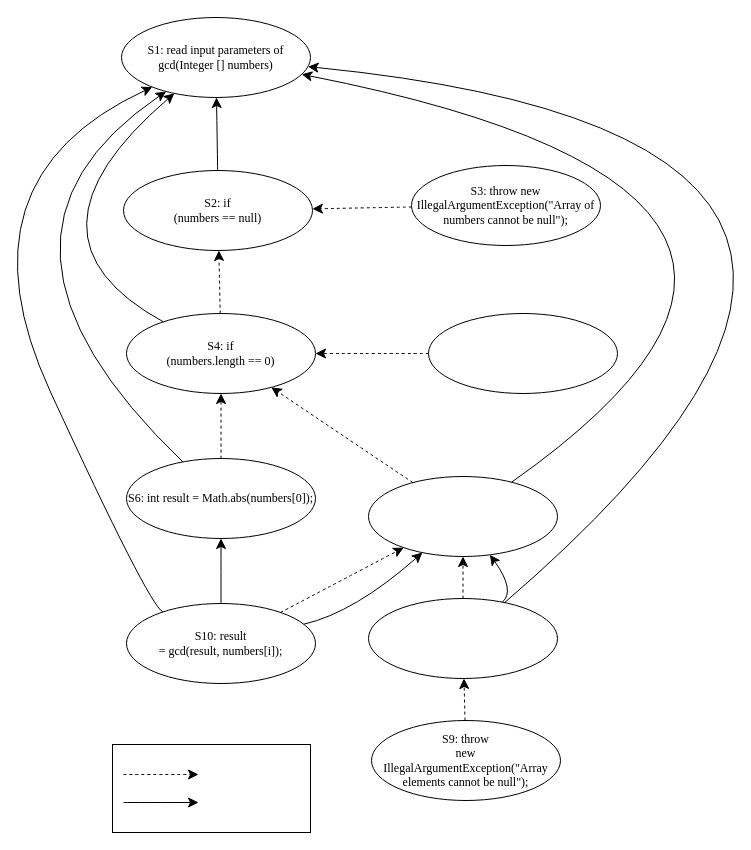
This 751x850 diagram has some shape labels left out. Here are the shapes that lost their labels. From the top down, the centre of each, then its label:
(523,353): S5: throw new IllegalArgumentException("Array of numbers cannot be empty");
(463,516): S7: for (int i = 1; i < numbers.length; i++)
(463,638): S8: if (numbers[i] == null)
(211,788): Control Dependency Data Dependency
